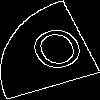O: (25, 24, 94, 82)
